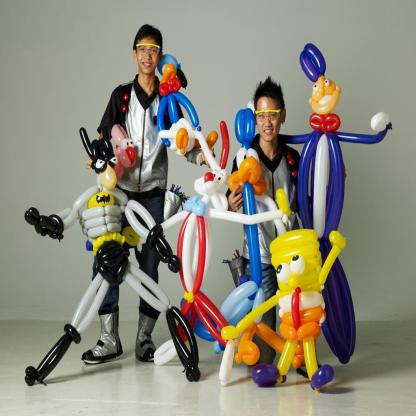face: (257, 98, 281, 143), (139, 36, 160, 77)
